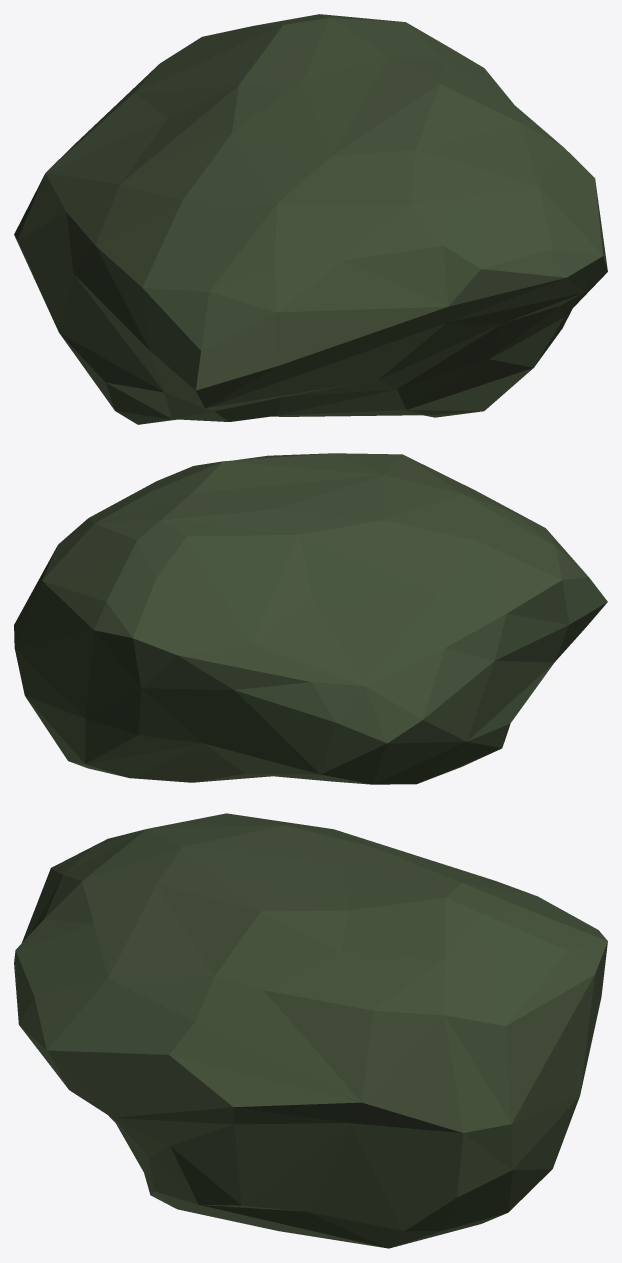
The model's file is S0.stone1.glb.
3 views of the same model, one above another, from view 1: azimuth 30°, elevation 25°; view 2: azimuth 150°, elevation 25°; view 3: azimuth 270°, elevation 25° (orthographic). The views are drawn at different scales.
Visible parts, largest first — view 1: Landscape.008; view 2: Landscape.008; view 3: Landscape.008.
Boxes of the visible parts, left/top/right/bottom form: Landscape.008: left=14, top=14, right=607, bottom=424; Landscape.008: left=14, top=453, right=607, bottom=784; Landscape.008: left=14, top=813, right=607, bottom=1248.
Size of the model in its own units: 2.82 by 1.73 by 2.95.
